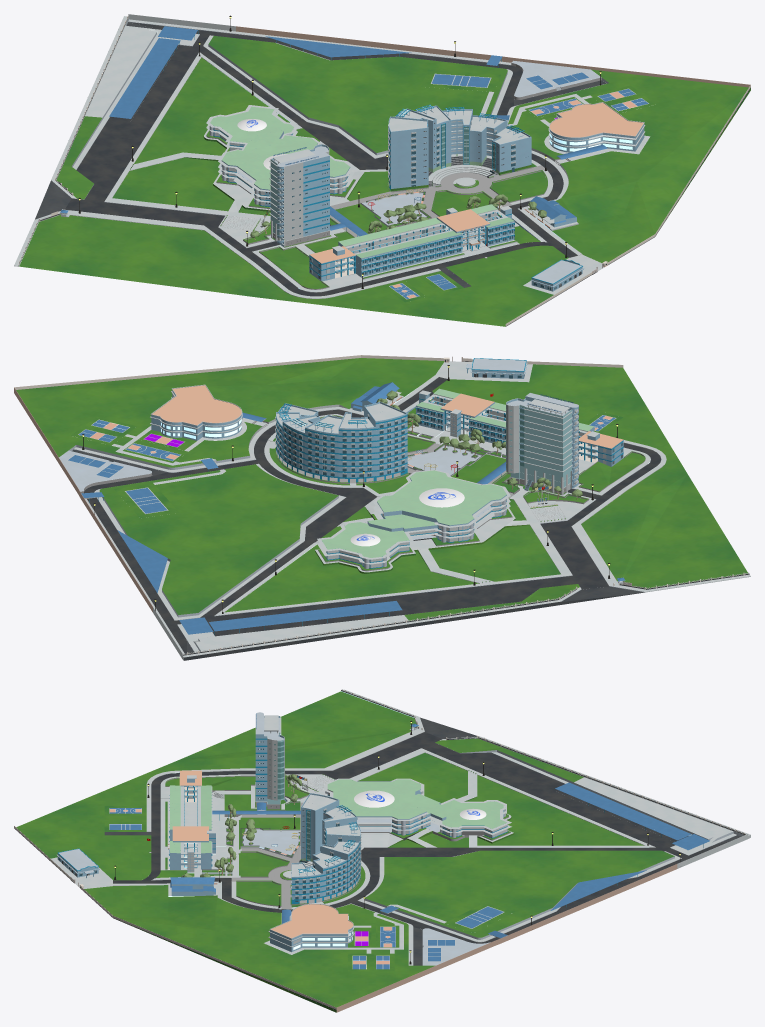
The model's file is campus.glb.
3 views of the same model, one above another, from view 1: azimuth 30°, elevation 25°; view 2: azimuth 150°, elevation 25°; view 3: azimuth 270°, elevation 25° (orthographic). The views are drawn at different scales.
Visible parts, largest first — view 1: GeometryNode_186, GeometryNode_60, GeometryNode_126, GeometryNode_16, GeometryNode_27, GeometryNode_142, GeometryNode_5, GeometryNode_104, GeometryNode_164, GeometryNode_82, GeometryNode_71, GeometryNode_230 (+3 smaller); view 2: GeometryNode_186, GeometryNode_60, GeometryNode_126, GeometryNode_16, GeometryNode_27, GeometryNode_142, GeometryNode_5, GeometryNode_104, GeometryNode_71, GeometryNode_164, GeometryNode_49, GeometryNode_175 (+4 smaller); view 3: GeometryNode_186, GeometryNode_60, GeometryNode_126, GeometryNode_16, GeometryNode_142, GeometryNode_27, GeometryNode_5, GeometryNode_104, GeometryNode_164, GeometryNode_82, GeometryNode_71, GeometryNode_230 (+4 smaller).
Boxes of the visible parts, x1,y1,x2,y2 form: GeometryNode_186: (19,36,750,326); GeometryNode_60: (19,16,750,326); GeometryNode_126: (14,14,645,298); GeometryNode_16: (61,28,650,299); GeometryNode_27: (213,105,644,291); GeometryNode_142: (210,69,656,302); GeometryNode_5: (60,26,648,298); GeometryNode_104: (51,17,608,287); GeometryNode_164: (309,91,643,298); GeometryNode_82: (206,63,601,289); GeometryNode_71: (163,30,582,284); GeometryNode_230: (236,26,750,87); GeometryNode_186: (16,358,747,620); GeometryNode_60: (72,360,749,660); GeometryNode_126: (84,373,750,660); GeometryNode_16: (67,361,666,652); GeometryNode_27: (151,363,623,567); GeometryNode_142: (71,388,622,557); GeometryNode_5: (68,382,625,634); GeometryNode_104: (59,358,647,651); GeometryNode_71: (89,358,623,634); GeometryNode_164: (90,361,623,466); GeometryNode_49: (506,403,571,487); GeometryNode_175: (14,355,747,654); GeometryNode_186: (16,691,674,1012); GeometryNode_60: (14,690,745,1009); GeometryNode_126: (66,689,750,947); GeometryNode_16: (51,715,736,969); GeometryNode_142: (104,779,514,971); GeometryNode_27: (57,716,507,952); GeometryNode_5: (109,713,709,969); GeometryNode_104: (57,712,744,965); GeometryNode_164: (80,770,391,964); GeometryNode_82: (165,775,510,908); GeometryNode_71: (58,738,703,914); GeometryNode_230: (336,864,677,1012).
Bounding box in the file's own units: 16.34 × 1.82 × 15.76.
34 materials, 16 textured.
